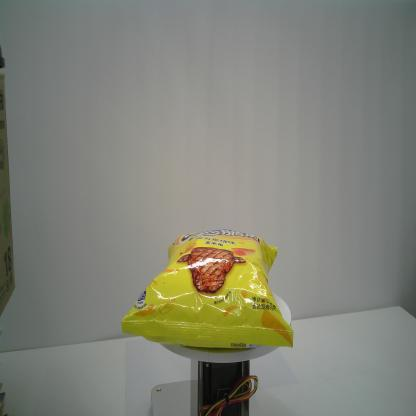Puffed Food: (121, 227, 294, 349)
